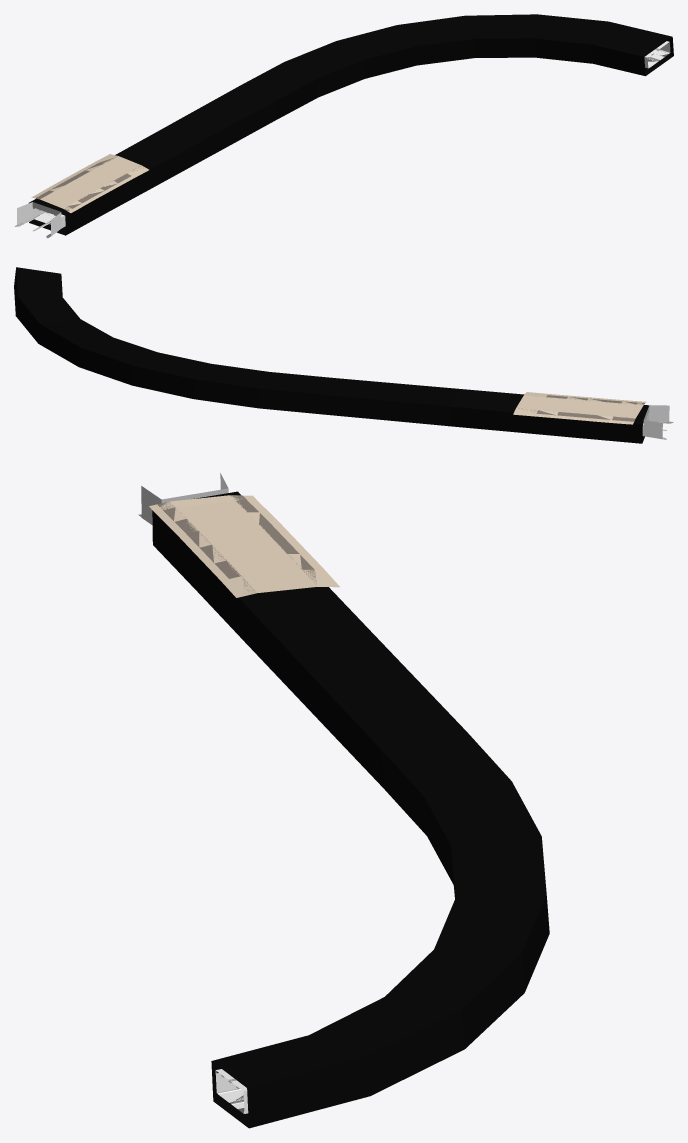
Rendered from tunnel_NEa.dae.
3 renders of one model, top to bottom at view 1: azimuth 30°, elevation 25°; view 2: azimuth 150°, elevation 25°; view 3: azimuth 270°, elevation 25°, orthographic. The views are drawn at different scales.
Parts seen in each view (by area): view 1: tunnel_NEa_a4000, tunnel_NEa_a3000; view 2: tunnel_NEa_a4000, tunnel_NEa_a3000; view 3: tunnel_NEa_a4000, tunnel_NEa_a3000.
Part boxes in pixels (x1,y1,x2,y2): tunnel_NEa_a4000: [14, 14, 673, 238]; tunnel_NEa_a3000: [23, 52, 668, 237]; tunnel_NEa_a4000: [14, 267, 673, 443]; tunnel_NEa_a3000: [518, 395, 673, 423]; tunnel_NEa_a4000: [141, 473, 549, 1128]; tunnel_NEa_a3000: [138, 495, 316, 1112].
Size of the model in its own units: 369 by 102 by 16.04.
